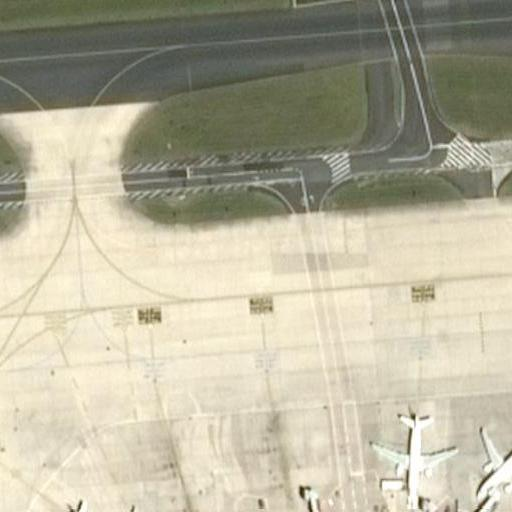Aircraft: (373, 404, 457, 500), (474, 419, 512, 499), (58, 492, 163, 512)
